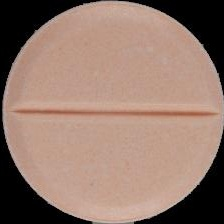67046-272: (0, 0, 224, 224)
